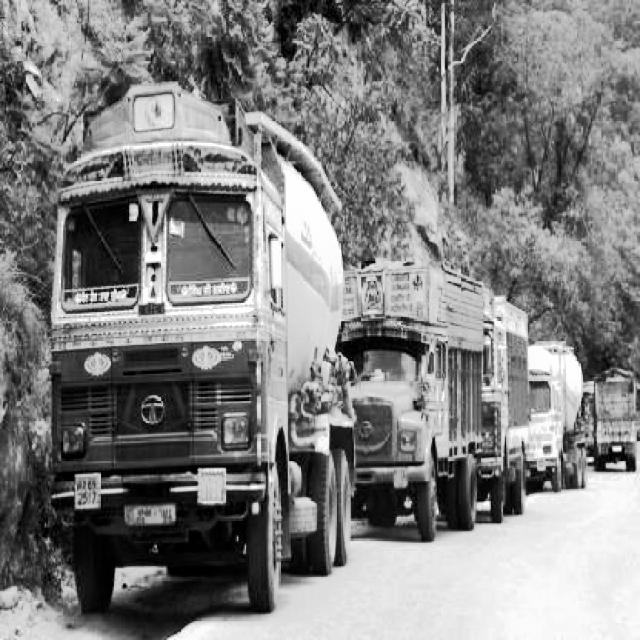HCV: (71, 122, 351, 602), (324, 262, 488, 459), (518, 331, 638, 464), (471, 304, 538, 508)
